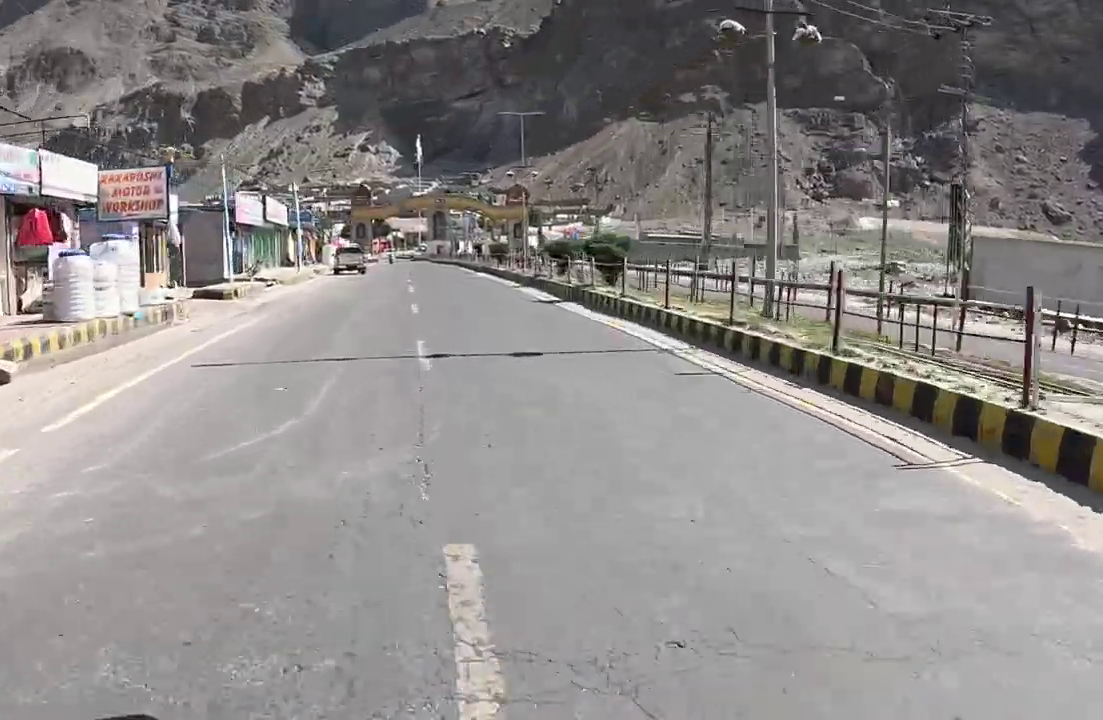left: (294, 282, 630, 668)
